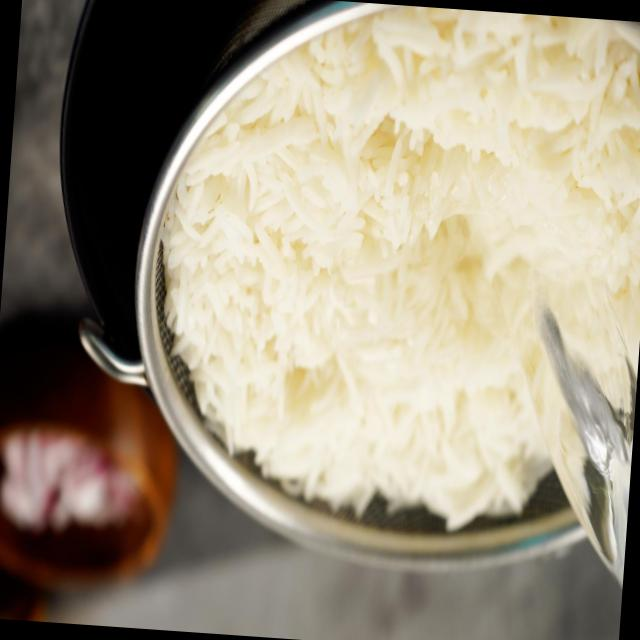rice: (161, 9, 640, 510)
